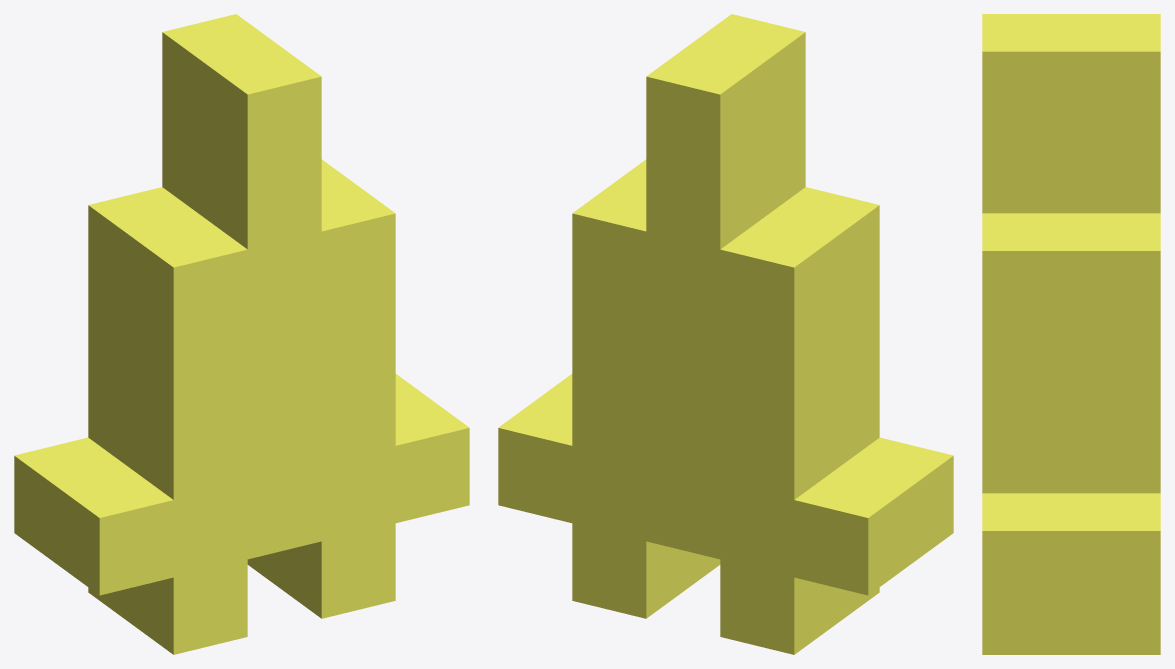
The model's file is pacmand9.fbx.
3 views of the same model, side by side, from view 1: azimuth 30°, elevation 25°; view 2: azimuth 150°, elevation 25°; view 3: azimuth 270°, elevation 25° (orthographic). The views are drawn at different scales.
Parts seen in each view (by area): view 1: pacmand9; view 2: pacmand9; view 3: pacmand9.
Part boxes in pixels (x1,y1,x2,y2): pacmand9: (14, 14, 469, 654); pacmand9: (498, 14, 953, 654); pacmand9: (982, 14, 1160, 654).
Size of the model in its own units: 50 by 70 by 20.
